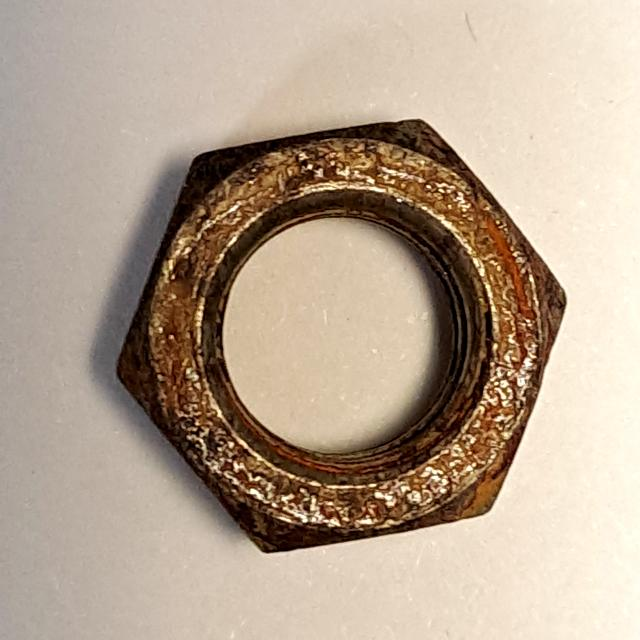Rust: (105, 107, 577, 572)
